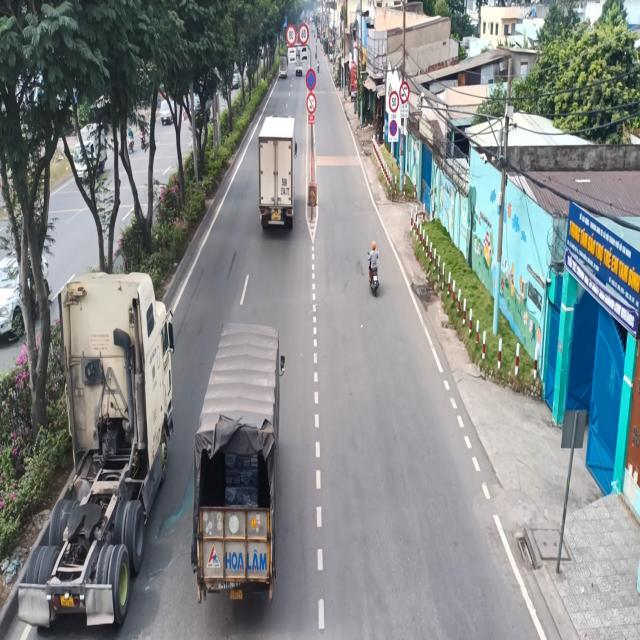motor: (368, 234, 381, 296)
truck: (198, 297, 287, 603), (255, 95, 300, 232)
